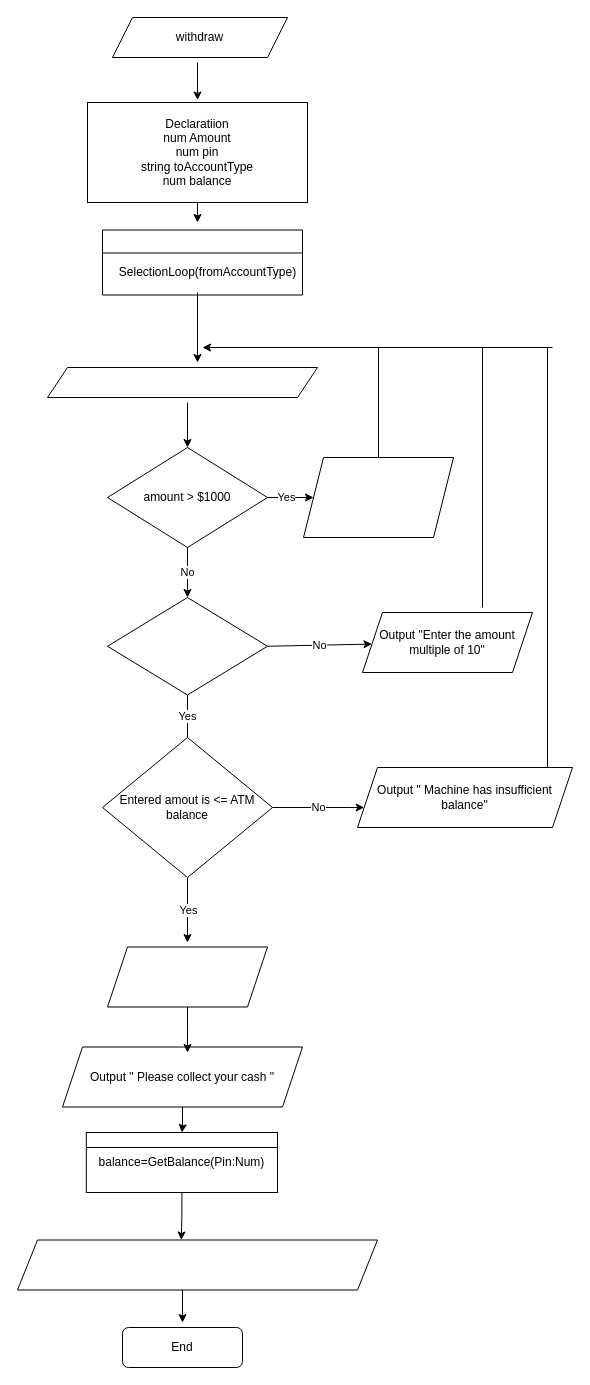
This 590x1385 diagram has some shape labels left out. The shapes that lost their labels are listed below. From the top down, each one's centre as x and y in pixels, then its label:
pixel 182 382: Output " Enter the amount", Amount
pixel 378 497: Output" $1000 is the maximum amout to withdraw"
pixel 187 645: Amount %10==0
pixel 187 976: Dispence the cash
pixel 197 1264: Output " The balance after transaction is ", balance
